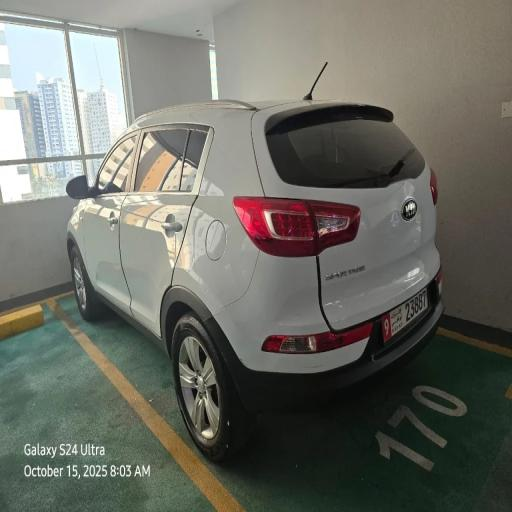license-plates: (381, 287, 429, 343)
